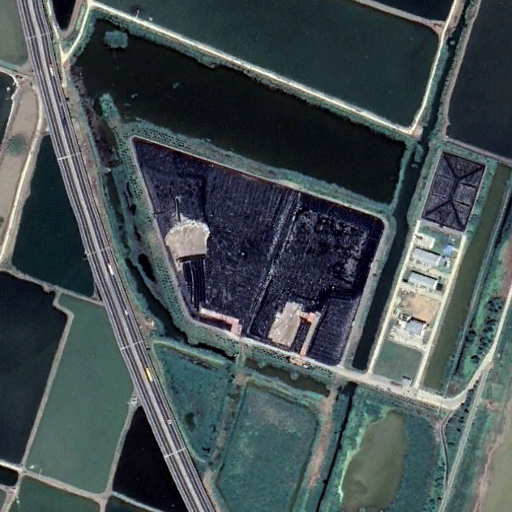lf: (132, 134, 388, 366)
